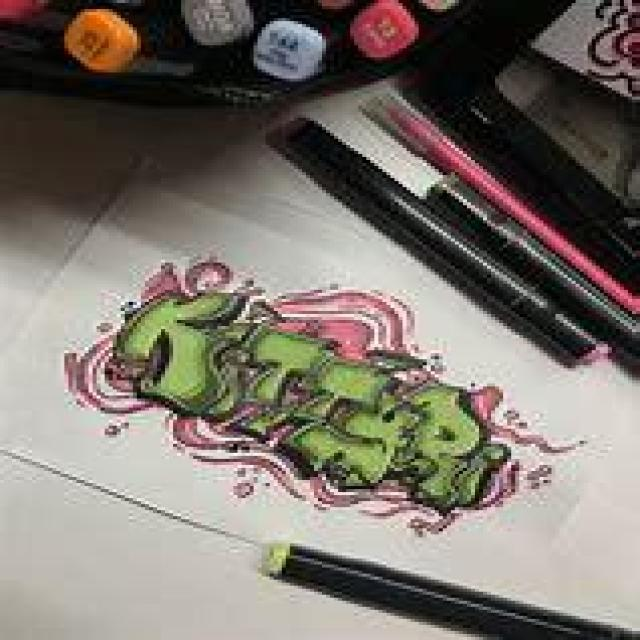nonspitting: (64, 253, 594, 544)
